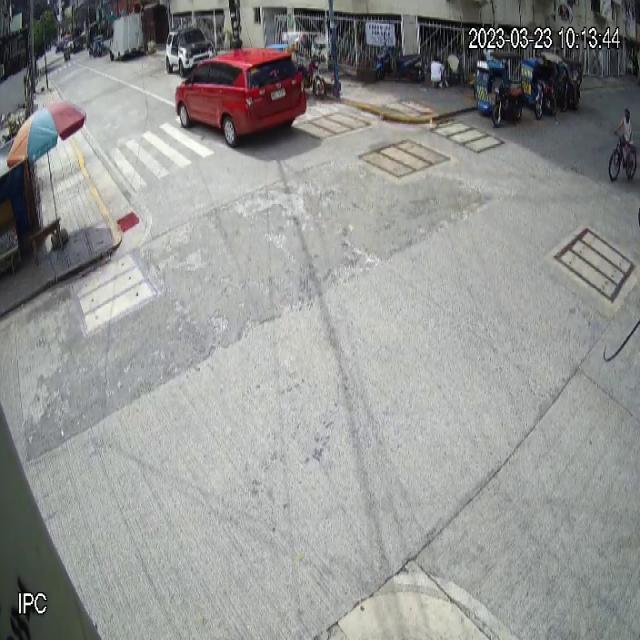Car: (175, 48, 306, 148)
Tricycle: (474, 51, 524, 128)
